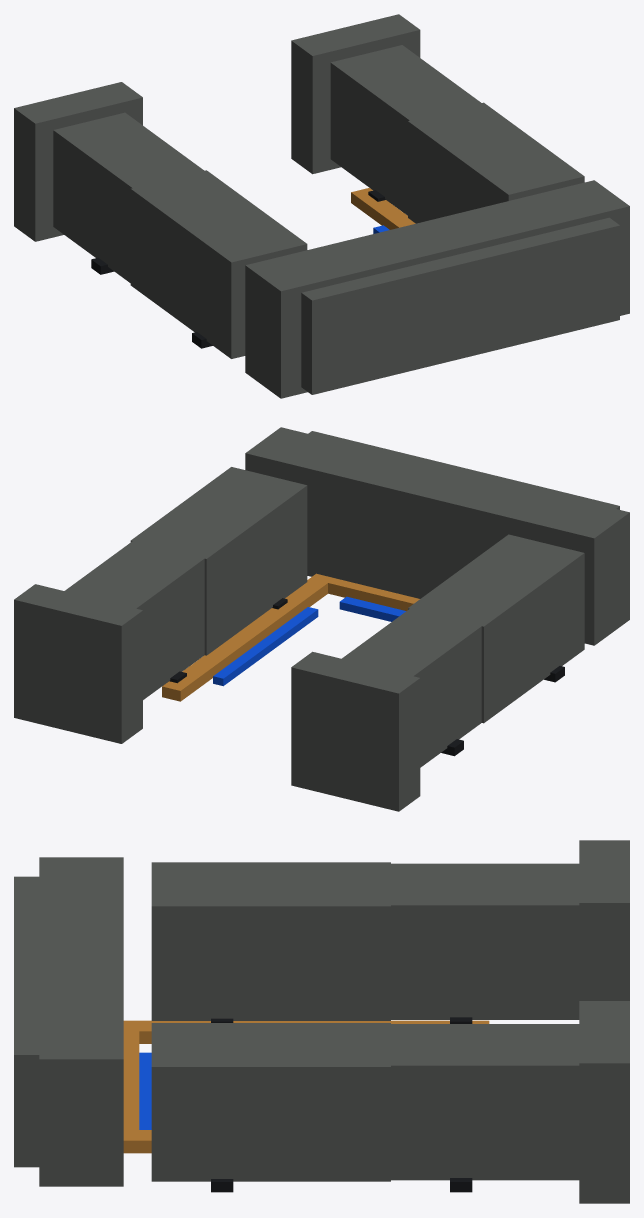
File: SM_AET_PortalArch_A01.obj
The picture shows the model from 3 angles, top to bottom: view 1: azimuth 30°, elevation 25°; view 2: azimuth 150°, elevation 25°; view 3: azimuth 270°, elevation 25°; orthographic projection. The views are drawn at different scales.
Visible parts, largest first — view 1: Capstone_Top, Capstone_Main, Column_Left_Upper, Column_Right_Upper, Column_Left_Lower, Column_Right_Lower, Base_Right, Base_Left, InnerFrame_Right; view 2: Capstone_Main, Column_Left_Lower, Column_Right_Lower, Column_Left_Upper, Column_Right_Upper, Base_Right, Base_Left, InnerFrame_Right, Aetherium_Channel_Right, Capstone_Top, InnerFrame_Top, Aetherium_Channel_Top; view 3: Column_Left_Upper, Column_Right_Upper, Column_Left_Lower, Column_Right_Lower, Capstone_Main, Base_Right, Base_Left, Capstone_Top, InnerFrame_Top, InnerFrame_Left, Aetherium_Channel_Top, InnerFrame_Right.
Boxes of the visible parts, x1,y1,x2,y2 form: Capstone_Top: (301, 217, 619, 394); Capstone_Main: (245, 180, 629, 398); Column_Left_Upper: (130, 170, 307, 358); Column_Right_Upper: (408, 102, 584, 223); Column_Left_Lower: (53, 112, 203, 282); Column_Right_Lower: (330, 45, 480, 215); Base_Right: (291, 14, 420, 174); Base_Left: (14, 82, 142, 241); InnerFrame_Right: (351, 188, 415, 229); Capstone_Main: (245, 427, 629, 645); Column_Left_Lower: (309, 608, 481, 796); Column_Right_Lower: (32, 541, 204, 728); Column_Left_Upper: (408, 534, 584, 723); Column_Right_Upper: (130, 467, 307, 655); Base_Right: (14, 584, 142, 743); Base_Left: (291, 651, 420, 811); InnerFrame_Right: (162, 573, 334, 701); Aetherium_Channel_Right: (213, 607, 318, 686); Capstone_Top: (308, 431, 619, 509); InnerFrame_Top: (322, 575, 419, 610); Aetherium_Channel_Top: (339, 596, 405, 621); Column_Left_Upper: (151, 862, 390, 1020); Column_Right_Upper: (151, 1023, 390, 1181); Column_Left_Lower: (391, 863, 579, 1019); Column_Right_Lower: (391, 1024, 579, 1180); Capstone_Main: (39, 857, 123, 1186); Base_Right: (579, 1001, 629, 1203); Base_Left: (579, 840, 629, 1000); Capstone_Top: (14, 876, 39, 1167); InnerFrame_Top: (123, 1024, 139, 1129); InnerFrame_Left: (123, 1020, 489, 1043); Aetherium_Channel_Top: (139, 1052, 151, 1129); InnerFrame_Right: (123, 1130, 151, 1153).
Size of what is drawn, in the model's own units: 375 by 116 by 438.
